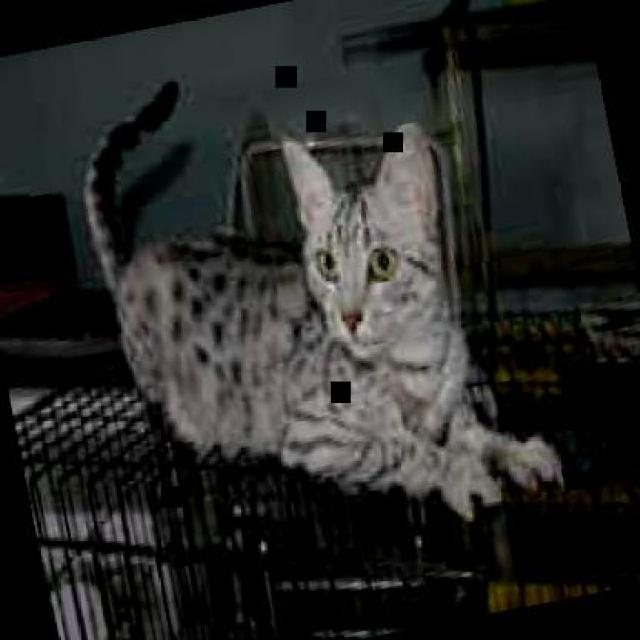cat: (62, 17, 570, 581)
